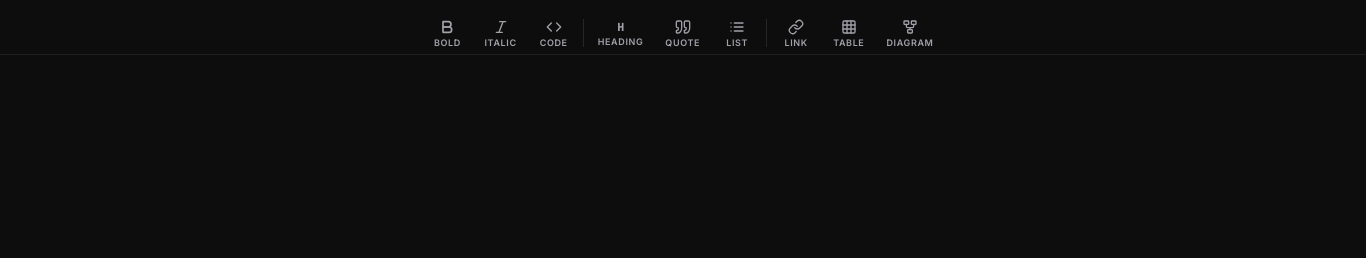
Test: FormattingToolbar Table button › clicking Table opens the grid picker popover
Click the button "Table". click: x=849, y=33
box: [822,12,875,54]
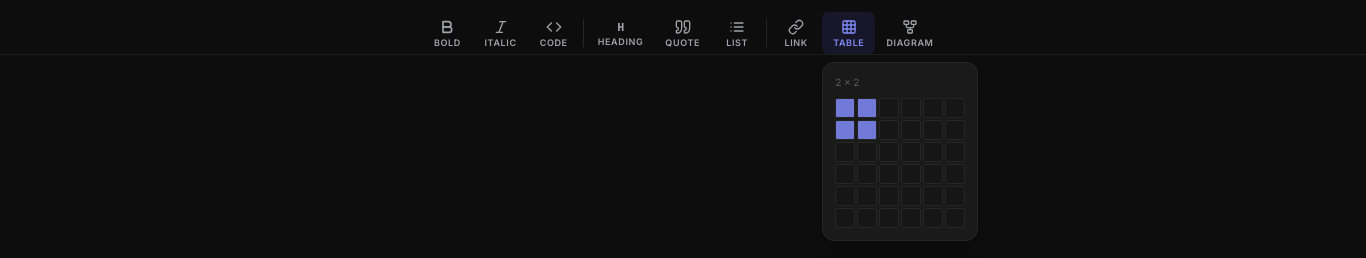
Now the element with test id "table-popover" is shown, box [822,62,978,241]
